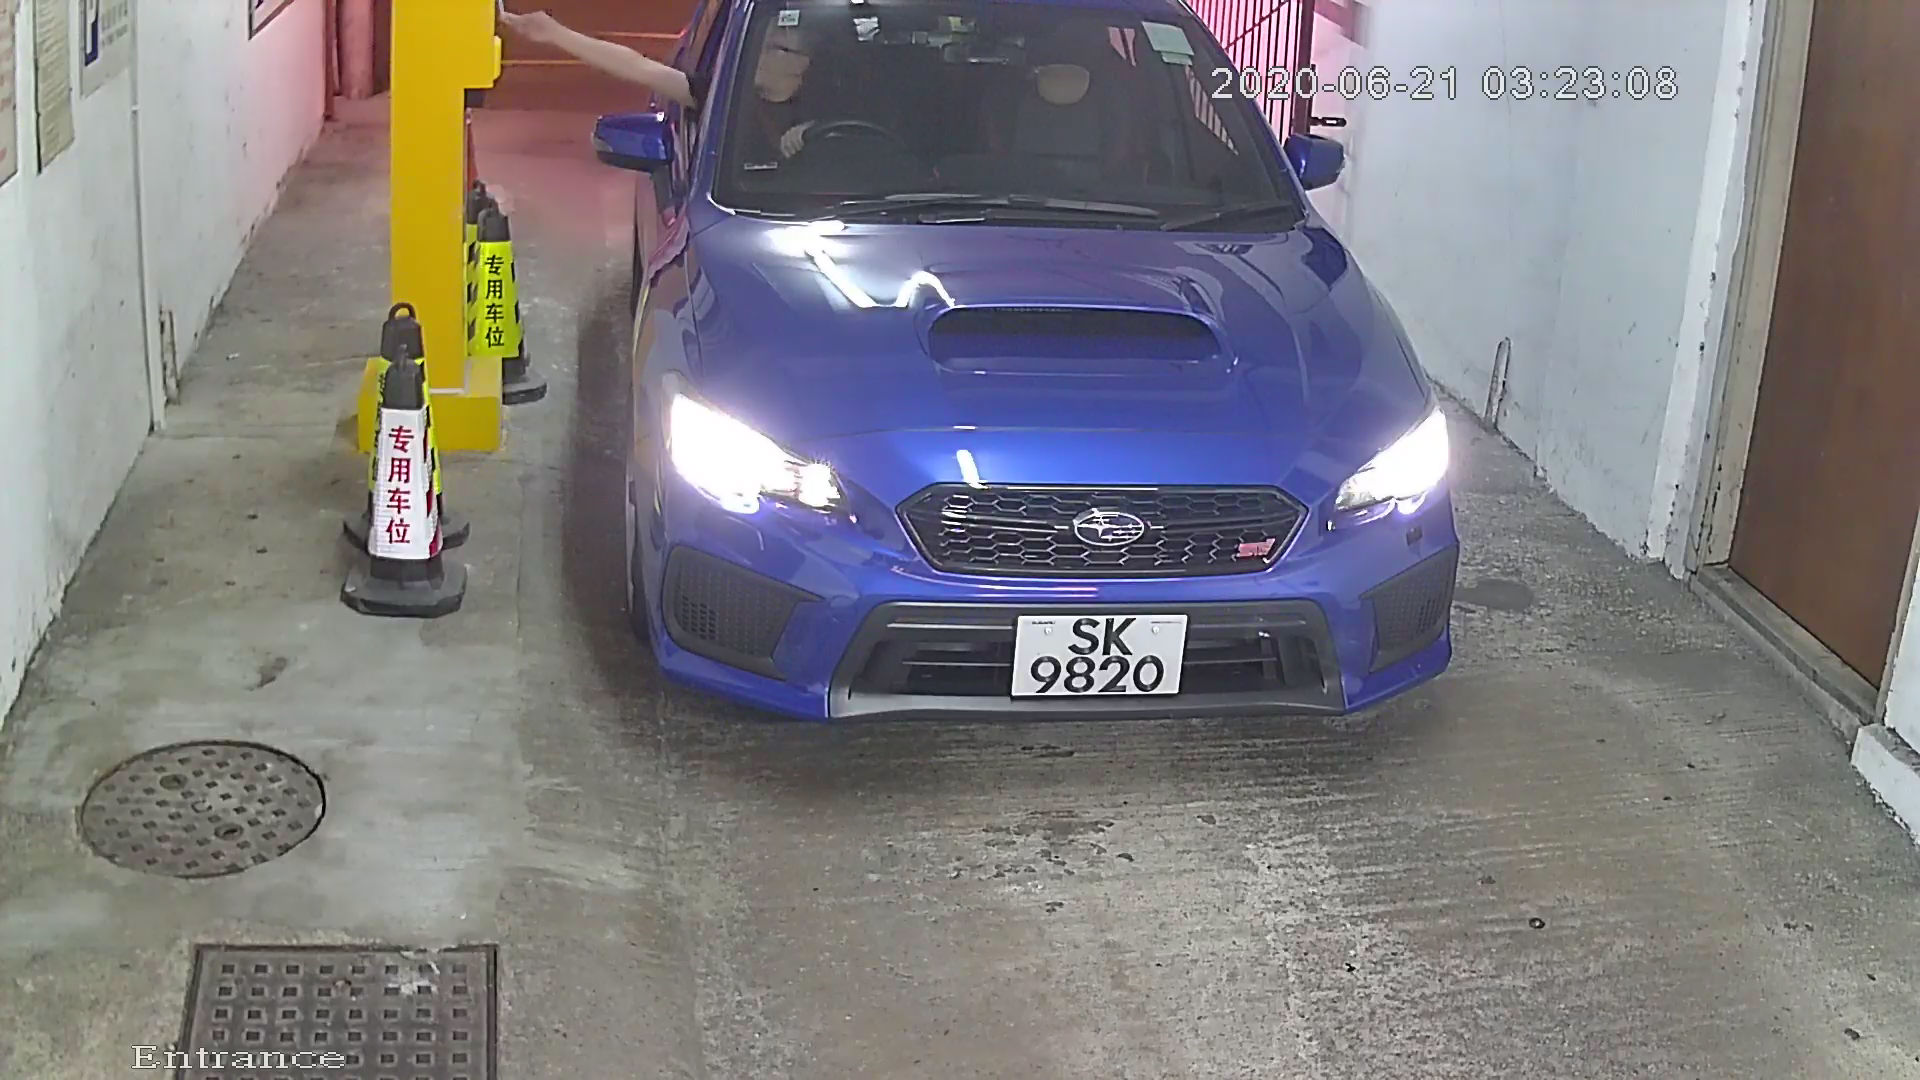privatecar: (564, 3, 1501, 845)
